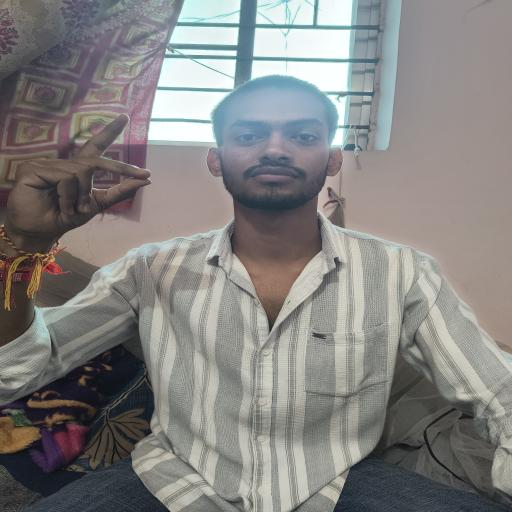Bad: (0, 102, 154, 250)
